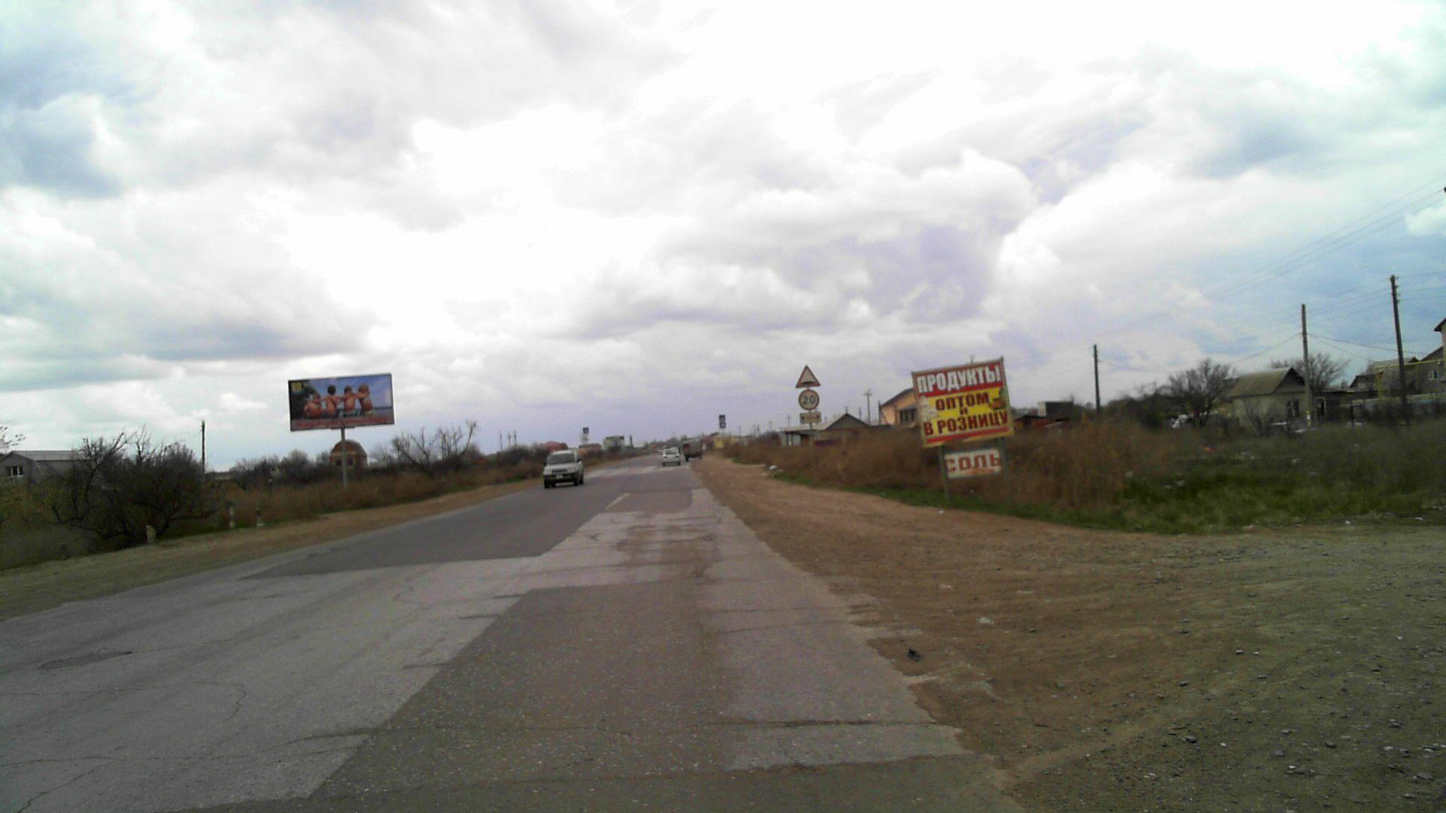road_sign: (793, 361, 824, 390), (797, 387, 821, 410)
